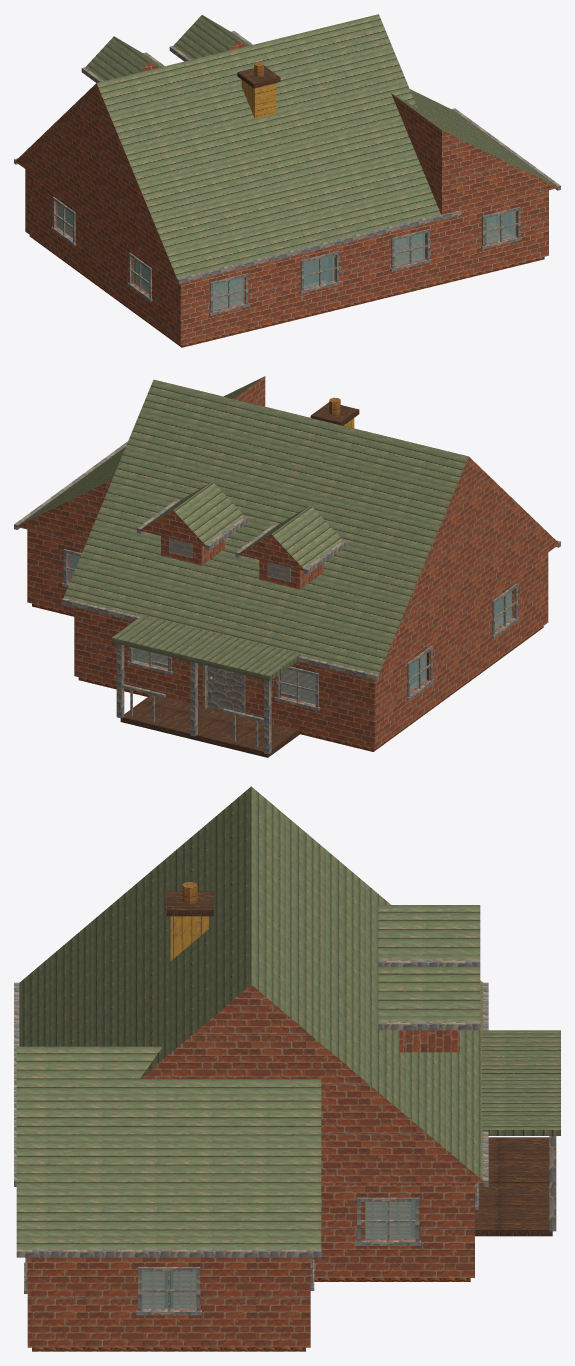
The model's file is hearth-cape.gltf.
3 views of the same model, one above another, from view 1: azimuth 30°, elevation 25°; view 2: azimuth 150°, elevation 25°; view 3: azimuth 270°, elevation 25° (orthographic). The views are drawn at different scales.
Parts seen in each view (by area): view 1: roof-L0-slate, exterior-L0-yellow-siding, roof-L0-yellow-siding, trim-L0-dark-wood, glazing-L0-glass, roof-L0-dark-wood, floor-L0-floor, details-L0-brick, interior-L0-interior, details-L0-stone; view 2: roof-L0-slate, exterior-L0-yellow-siding, roof-L0-yellow-siding, porch-L0-slate, porch-L0-stone, trim-L0-dark-wood, roof-L0-dark-wood, porch-L0-dark-wood, glazing-L0-glass, floor-L0-floor, door-leaf-L0-dark-wood, details-L0-yellow-siding (+1 smaller); view 3: roof-L0-slate, exterior-L0-yellow-siding, roof-L0-yellow-siding, porch-L0-slate, porch-L0-stone, roof-L0-dark-wood, floor-L0-floor, glazing-L0-glass, trim-L0-dark-wood, details-L0-brick, details-L0-stone, porch-L0-dark-wood.
Boxes of the visible parts, bbox=[...] form: roof-L0-slate: bbox=[85, 14, 556, 278]; exterior-L0-yellow-siding: bbox=[25, 169, 548, 345]; roof-L0-yellow-siding: bbox=[15, 40, 557, 279]; trim-L0-dark-wood: bbox=[51, 197, 521, 315]; glazing-L0-glass: bbox=[57, 203, 515, 310]; roof-L0-dark-wood: bbox=[14, 31, 560, 283]; floor-L0-floor: bbox=[29, 223, 544, 347]; details-L0-brick: bbox=[241, 80, 276, 118]; interior-L0-interior: bbox=[134, 216, 495, 290]; details-L0-stone: bbox=[237, 65, 280, 88]; roof-L0-slate: bbox=[18, 376, 468, 674]; exterior-L0-yellow-siding: bbox=[27, 529, 548, 749]; roof-L0-yellow-siding: bbox=[17, 376, 559, 675]; porch-L0-slate: bbox=[112, 615, 300, 680]; porch-L0-stone: bbox=[120, 695, 299, 757]; trim-L0-dark-wood: bbox=[62, 549, 519, 718]; roof-L0-dark-wood: bbox=[14, 441, 560, 680]; porch-L0-dark-wood: bbox=[116, 643, 299, 754]; glazing-L0-glass: bbox=[68, 554, 511, 704]; floor-L0-floor: bbox=[32, 603, 543, 751]; door-leaf-L0-dark-wood: bbox=[208, 666, 241, 712]; details-L0-yellow-siding: bbox=[259, 560, 323, 589]; roof-L0-slate: bbox=[16, 786, 483, 1249]; exterior-L0-yellow-siding: bbox=[27, 1183, 474, 1347]; roof-L0-yellow-siding: bbox=[140, 984, 484, 1183]; porch-L0-slate: bbox=[481, 1030, 560, 1135]; porch-L0-stone: bbox=[475, 1137, 552, 1236]; roof-L0-dark-wood: bbox=[14, 960, 488, 1257]; floor-L0-floor: bbox=[32, 1202, 470, 1351]; glazing-L0-glass: bbox=[141, 1202, 415, 1308]; trim-L0-dark-wood: bbox=[24, 1183, 478, 1315]; details-L0-brick: bbox=[170, 916, 208, 960]; details-L0-stone: bbox=[166, 891, 213, 916]; porch-L0-dark-wood: bbox=[549, 1136, 556, 1231].
Size of the model in its own units: 11.61 by 6.14 by 9.98.
10 materials, 9 textured.
